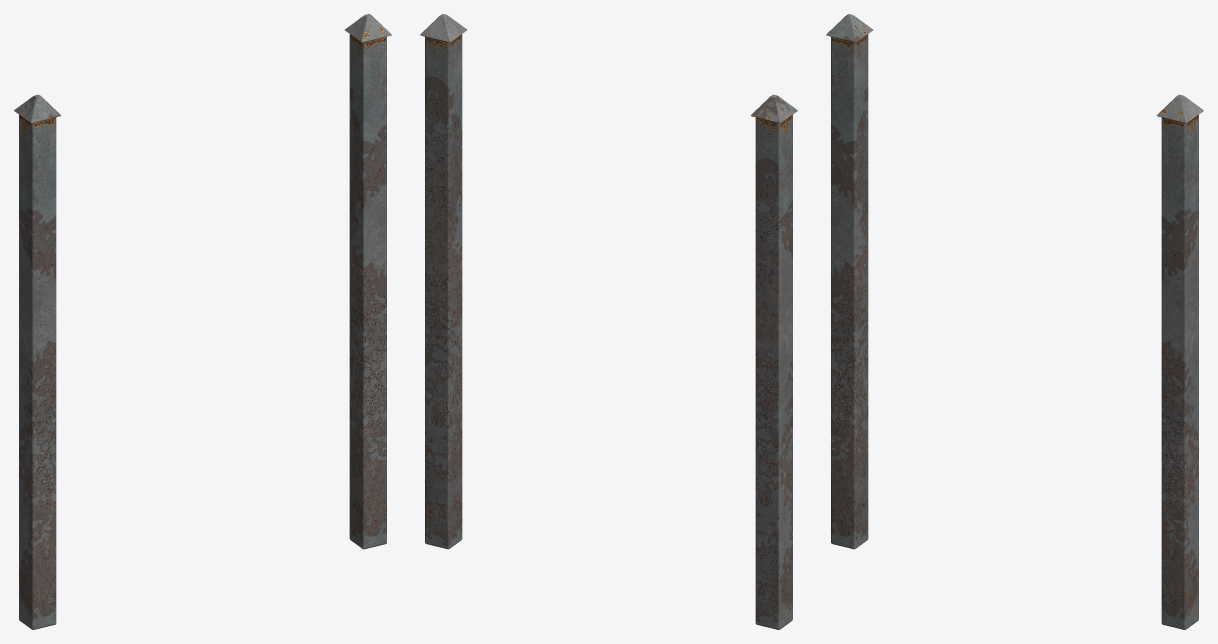
Rendered from fence_SM_Fence_b.fbx.
The picture shows the model from 3 angles, left to right: view 1: azimuth 30°, elevation 25°; view 2: azimuth 150°, elevation 25°; view 3: azimuth 330°, elevation 25°; orthographic projection.
Parts seen in each view (by area): view 1: fence_SM_Fence_b; view 2: fence_SM_Fence_b; view 3: fence_SM_Fence_b.
Boxes of the visible parts, x1=… form: fence_SM_Fence_b: x1=14, y1=14, x2=391, y2=629; fence_SM_Fence_b: x1=420, y1=14, x2=797, y2=629; fence_SM_Fence_b: x1=826, y1=14, x2=1203, y2=629.
Size of the model in its own units: 169 by 14.32 by 236.
Materials: 1 (1 with a texture image).
